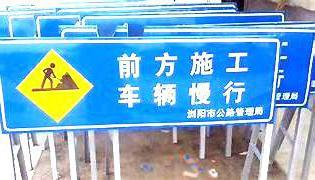sign: (1, 39, 274, 131)
